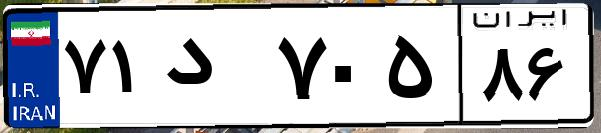0: (330, 28, 385, 110)
1: (110, 28, 158, 98)
5: (385, 28, 445, 110)
6: (525, 38, 570, 115)
7: (270, 28, 330, 110), (57, 26, 110, 100)
8: (475, 38, 525, 113)
د: (158, 20, 270, 120)
